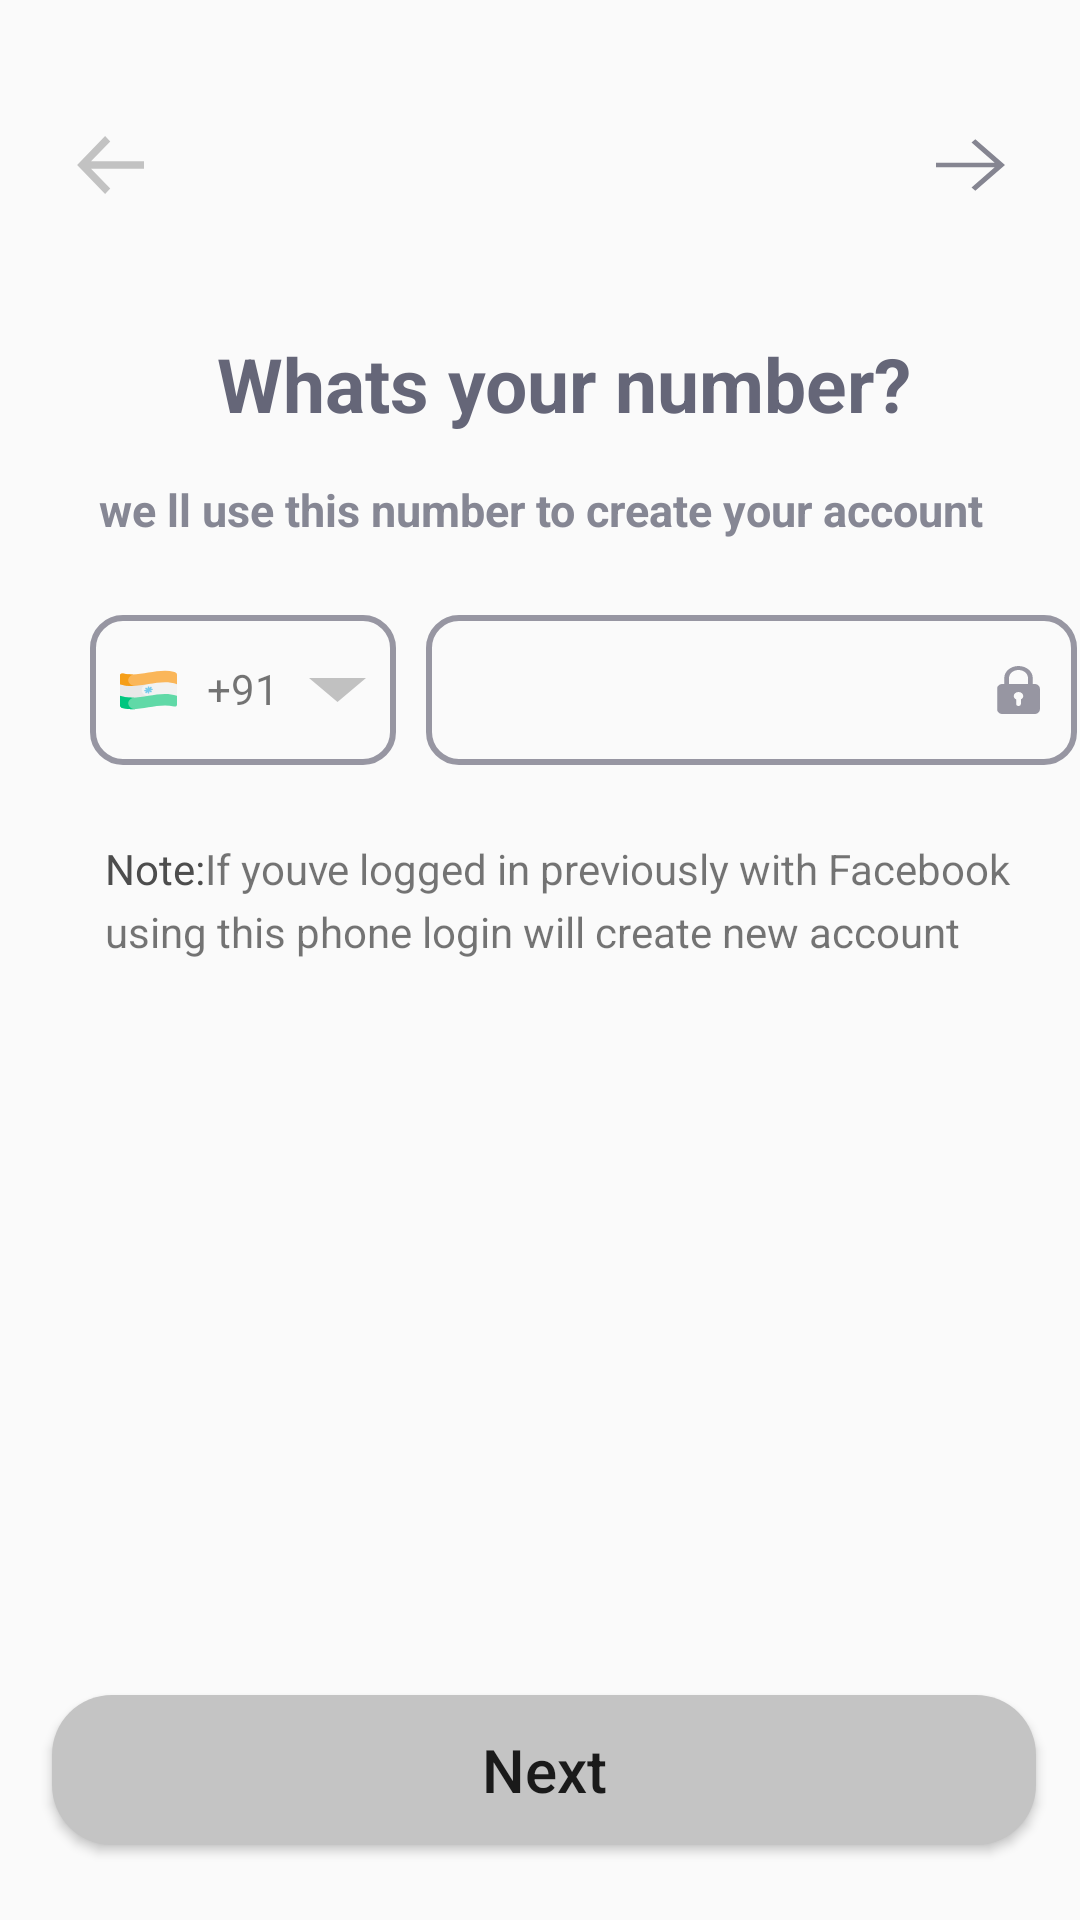

Screen size 1080*1920. Icon name, then its box in pixels as (x1, y1, x2, y2):
backbutton: (78, 136, 144, 194)
right arrow: (936, 139, 1005, 191)
